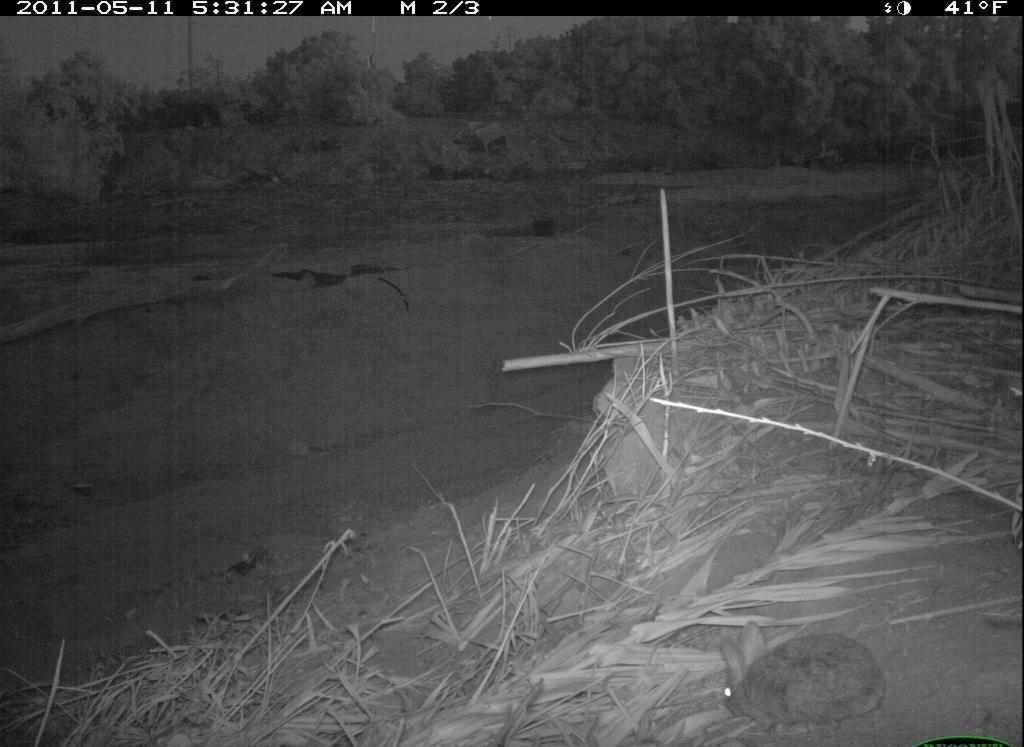rabbit: (708, 612, 894, 734)
